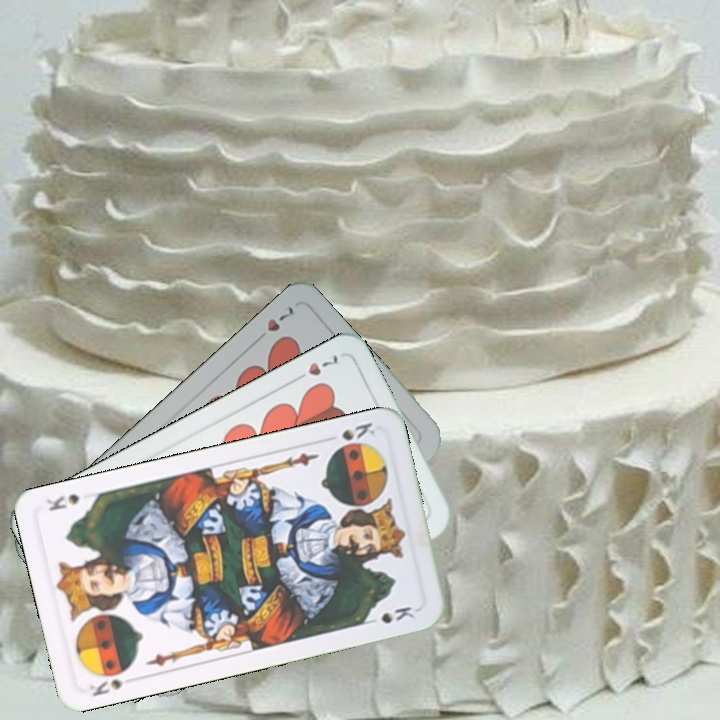H7: (250, 302, 296, 346), (289, 350, 343, 385)
SK: (86, 672, 139, 700), (337, 418, 378, 443)
